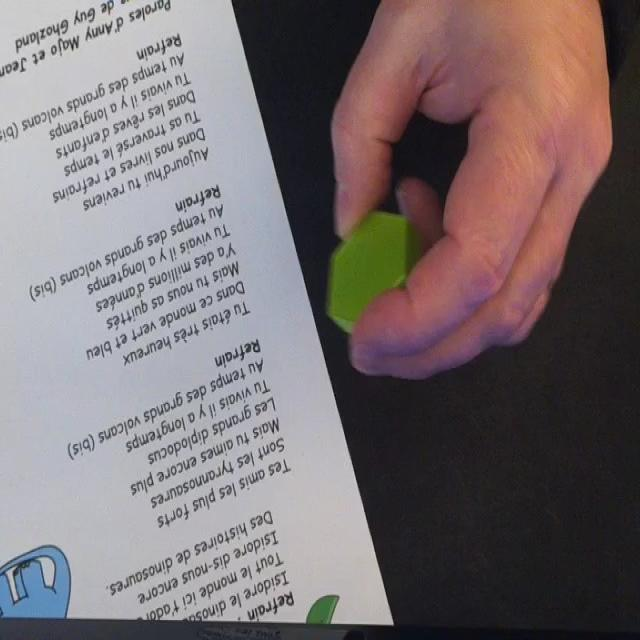hexagon: (323, 208, 420, 338)
